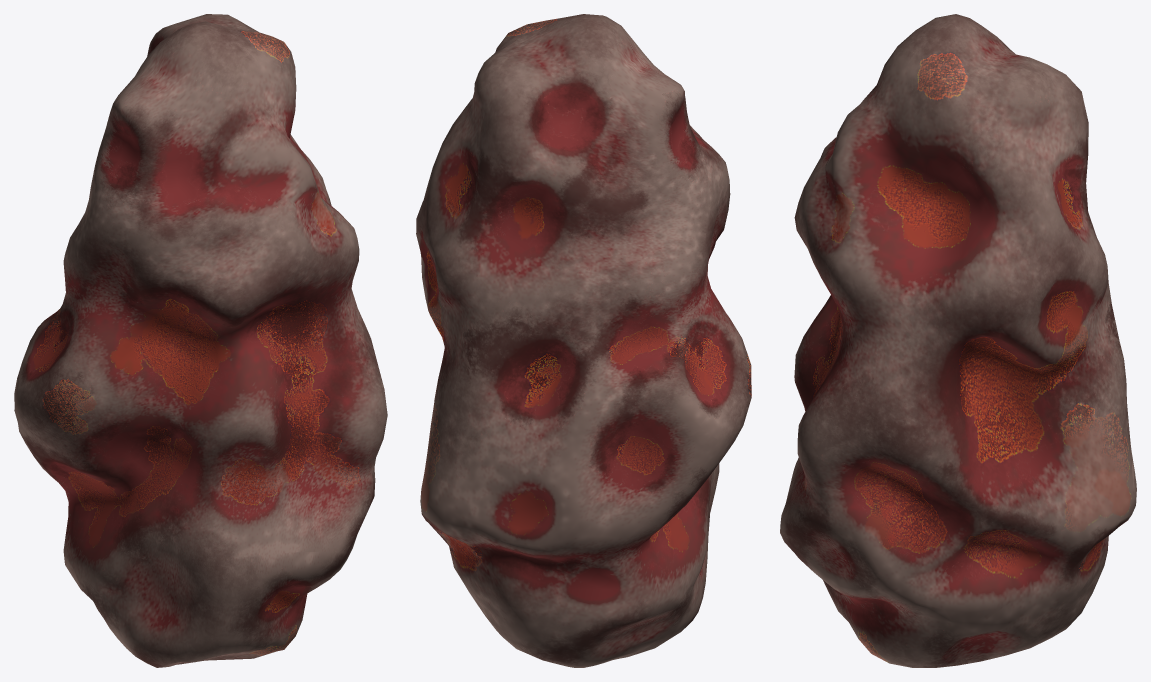
The model's file is meteorite.glb.
3 renders of one model, left to right at view 1: azimuth 30°, elevation 25°; view 2: azimuth 150°, elevation 25°; view 3: azimuth 270°, elevation 25°, orthographic.
Visible parts, largest first — view 1: meteorite; view 2: meteorite; view 3: meteorite.
Boxes of the visible parts, x1,y1,x2,y2 form: meteorite: (14,14,387,667); meteorite: (416,14,751,667); meteorite: (780,14,1136,667).
Size of the model in its own units: 3.58 by 6.97 by 3.55.
Materials: 1 (1 with a texture image).
